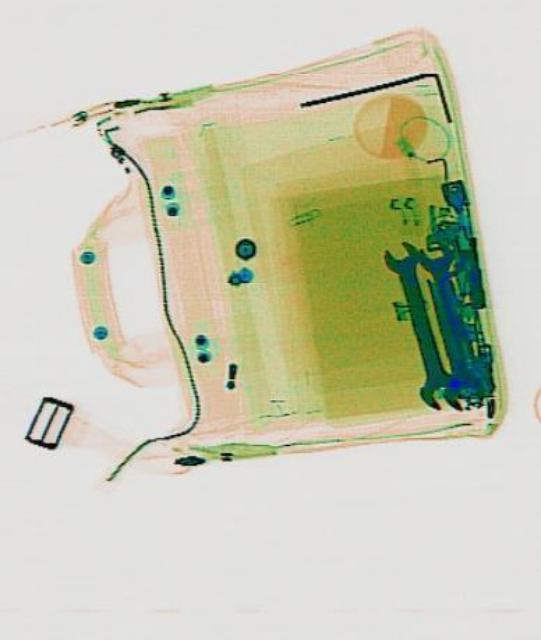Wrench: (374, 236, 460, 412), (412, 237, 483, 411)
